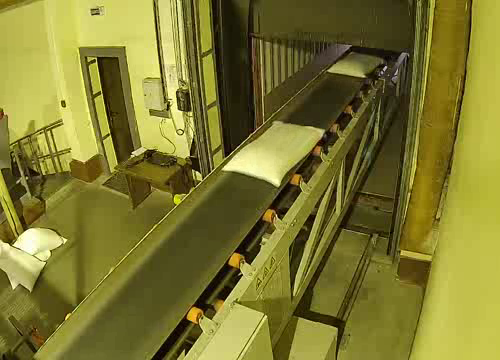bag: (217, 119, 325, 191), (326, 50, 386, 87)
